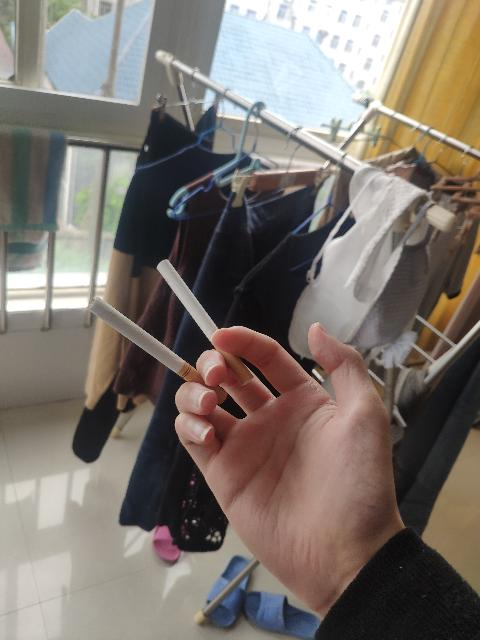Cigarette: (88, 296, 228, 408), (156, 258, 254, 388)
